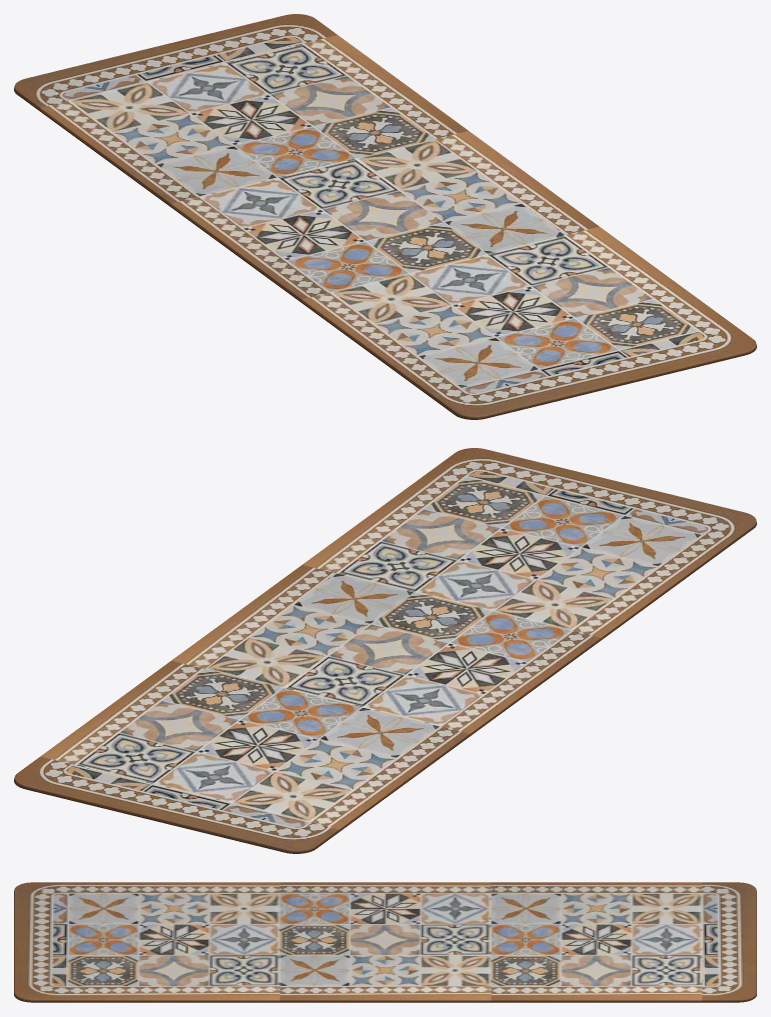
The model's file is homecloud_mat.glb.
The picture shows the model from 3 angles, top to bottom: view 1: azimuth 30°, elevation 25°; view 2: azimuth 150°, elevation 25°; view 3: azimuth 270°, elevation 25°; orthographic projection. The views are drawn at different scales.
Visible parts, largest first — view 1: HomeCloud Kitchen Floor Runner; view 2: HomeCloud Kitchen Floor Runner; view 3: HomeCloud Kitchen Floor Runner.
Part boxes in pixels (left/top/right/bottom): HomeCloud Kitchen Floor Runner: left=14, top=14, right=756, bottom=419; HomeCloud Kitchen Floor Runner: left=14, top=448, right=756, bottom=853; HomeCloud Kitchen Floor Runner: left=14, top=882, right=756, bottom=1002.
Bounding box in the file's own units: 0.45 × 0.00501 × 1.2.
2 materials, 1 textured.
